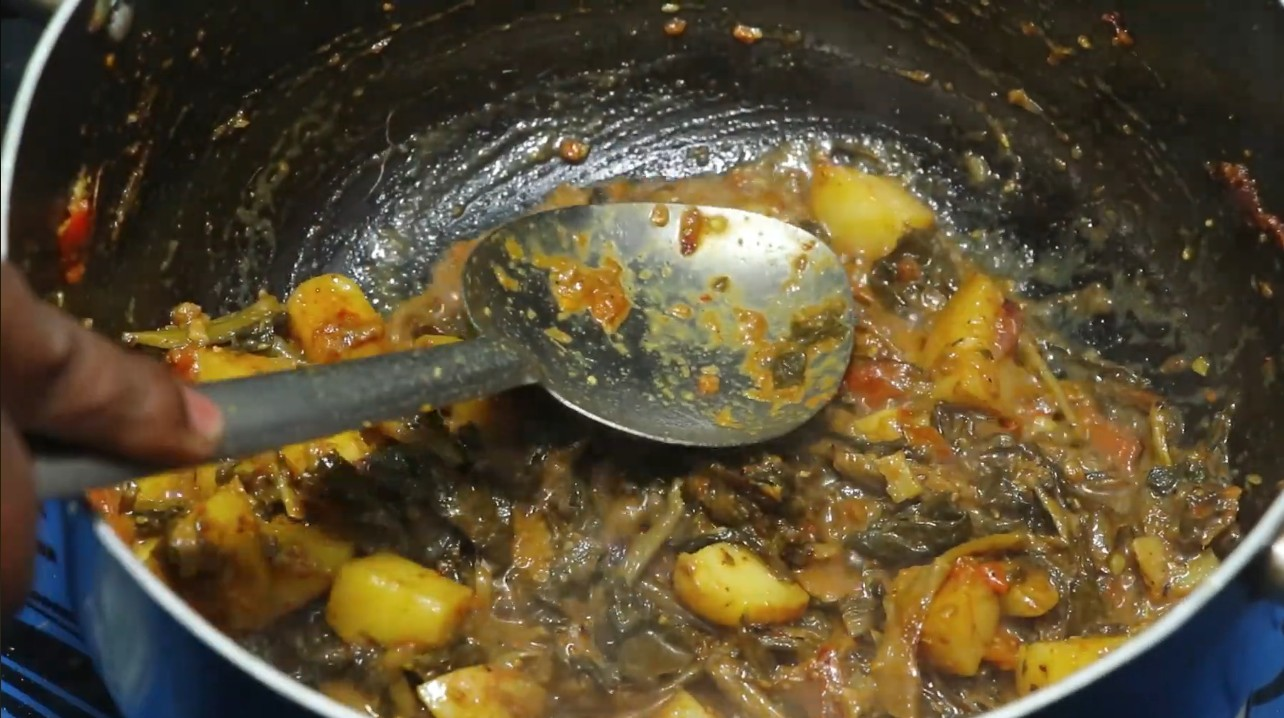gundruk: (128, 193, 1155, 662)
